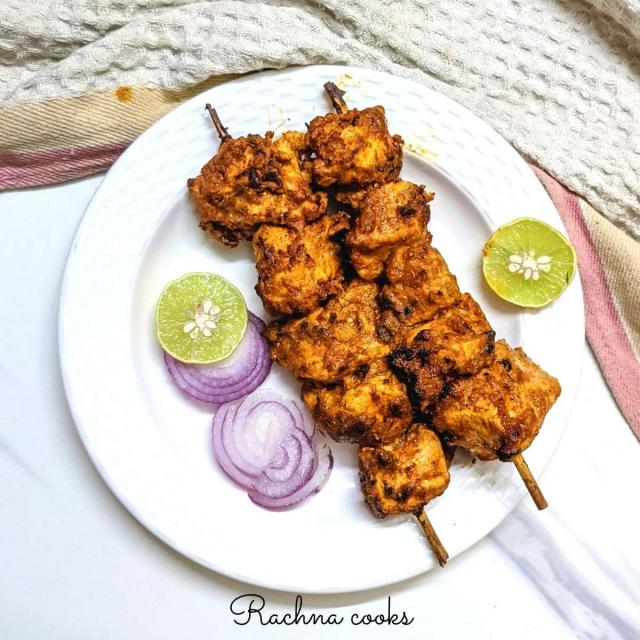Chicken Tikka: (183, 100, 558, 519)
